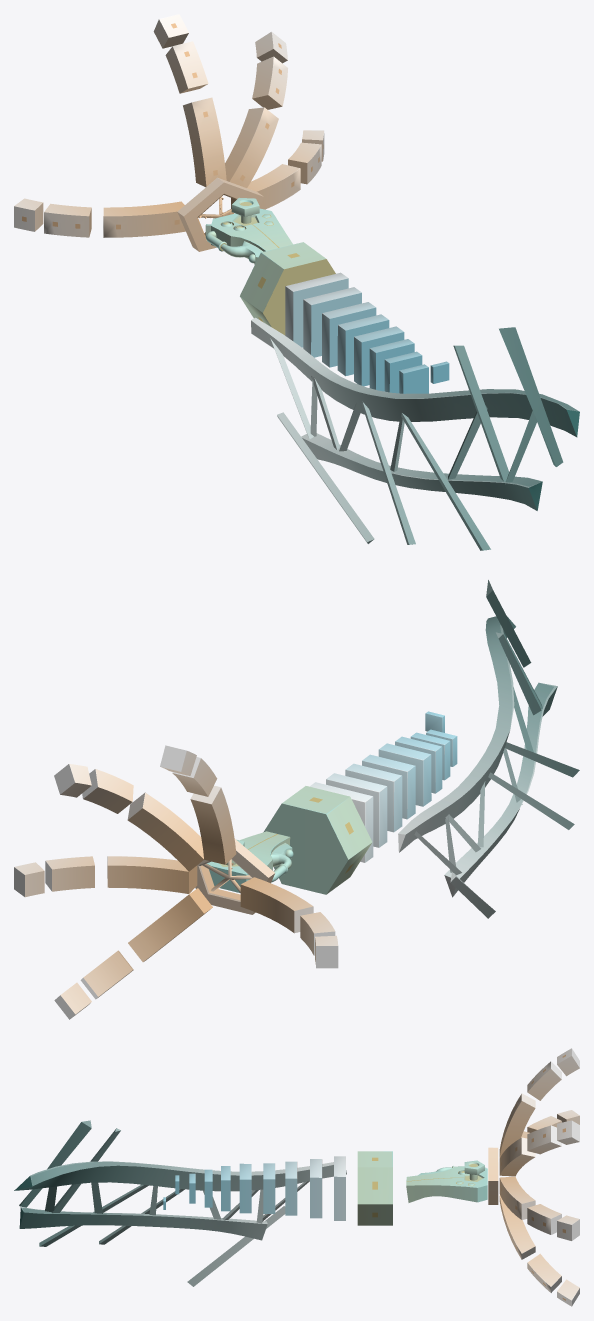
Rendered from Arm_Diligence_A.fbx.
3 renders of one model, top to bottom at view 1: azimuth 30°, elevation 25°; view 2: azimuth 150°, elevation 25°; view 3: azimuth 270°, elevation 25°, orthographic. The views are drawn at different scales.
Visible parts, largest first — view 1: IronFrame, Cube, finger_1, finger_4, finger_2, Hexagon, Controller, finger_3, Palm; view 2: IronFrame, Cube, Hexagon, finger_3, finger_2, finger_5, finger_1, finger_4, Palm, Controller; view 3: IronFrame, Cube, Hexagon, Controller, finger_1, finger_3, finger_5, finger_2, Palm, finger_4.
Part boxes in pixels (x1,y1,x2,y2): IronFrame: (251,317,579,550); Cube: (285,272,449,393); finger_1: (153,14,226,187); finger_4: (14,198,185,237); finger_2: (225,31,287,187); Hexagon: (240,242,335,335); Controller: (205,197,292,264); finger_3: (231,130,324,209); Palm: (177,177,263,251); IronFrame: (398,580,579,918); Cube: (310,711,457,862); Hexagon: (263,786,372,894); finger_3: (14,856,197,897); finger_2: (54,763,203,871); finger_5: (54,888,212,1019); finger_1: (160,745,236,864); finger_4: (240,877,338,968); Palm: (195,839,274,914); Controller: (207,831,293,892); IronFrame: (14,1120,346,1286); Cube: (163,1156,345,1220); Hexagon: (357,1151,392,1225); Controller: (406,1160,487,1202); finger_1: (499,1048,579,1157); finger_3: (499,1176,579,1240); finger_5: (499,1195,579,1306); finger_2: (499,1120,579,1176); Palm: (488,1147,498,1204); finger_4: (499,1110,579,1158).
Size of the model in its own units: 33.35 by 34.24 by 69.27.
